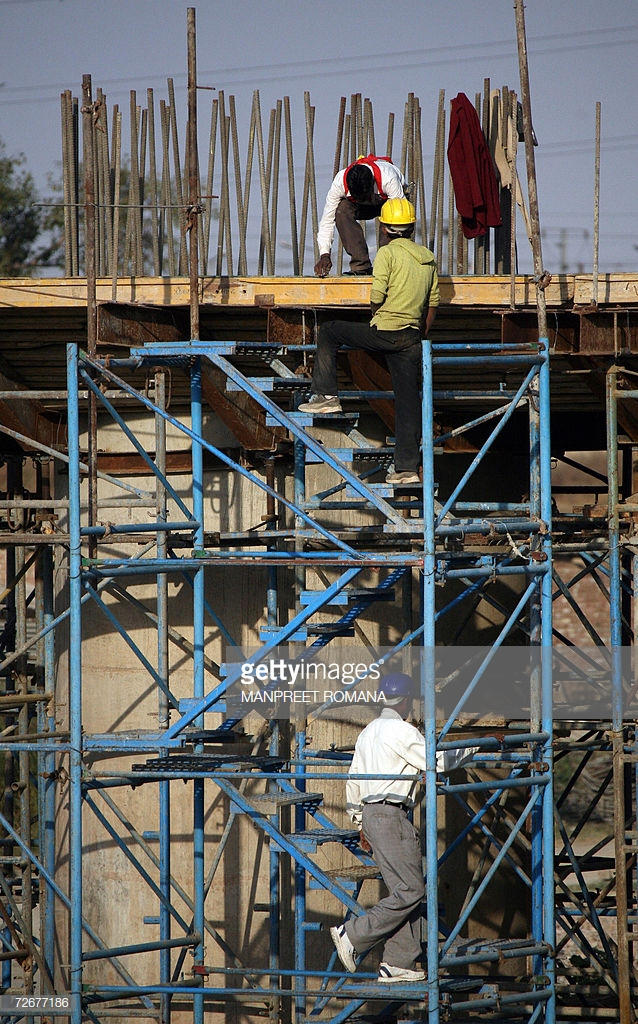NoJacket: (367, 198, 432, 337)
